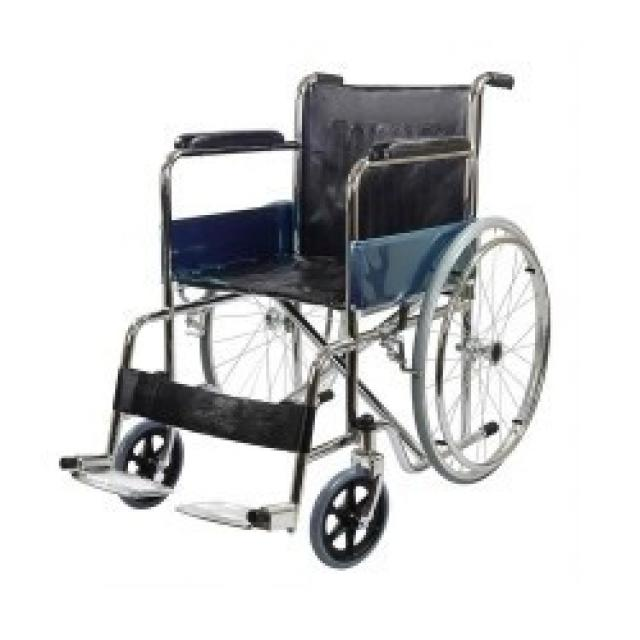wheelchair: (48, 55, 576, 584)
